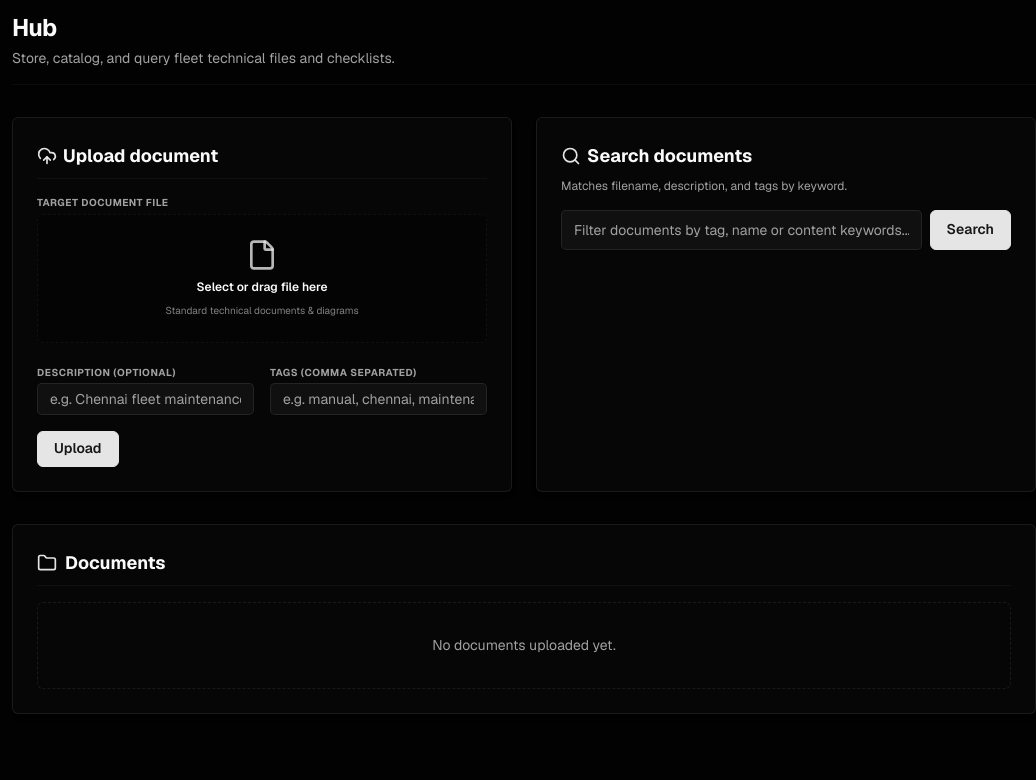
Test: HubView › shows a validation error when submitting the upload form without a file
Check: the text "No documents uploaded yet." is shown, box [37,602,1011,688]
Click the button "Upload": (78, 449) [37,431,119,466]
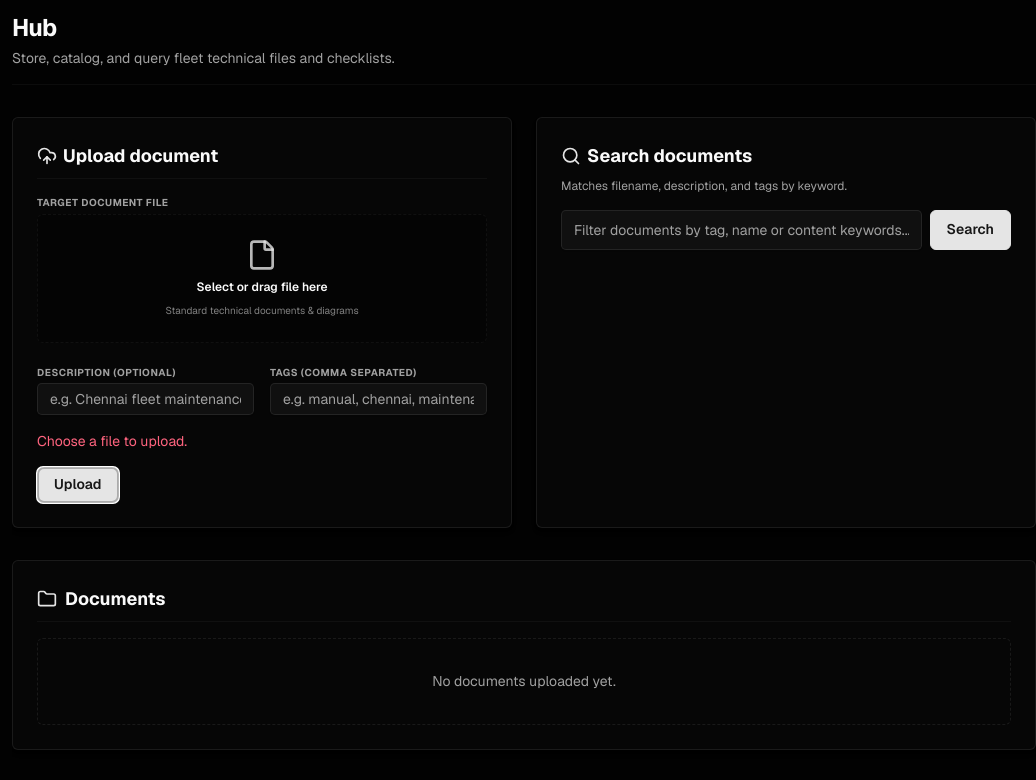
Check: the text "Choose a file to upload." is shown, box [37,432,187,450]
